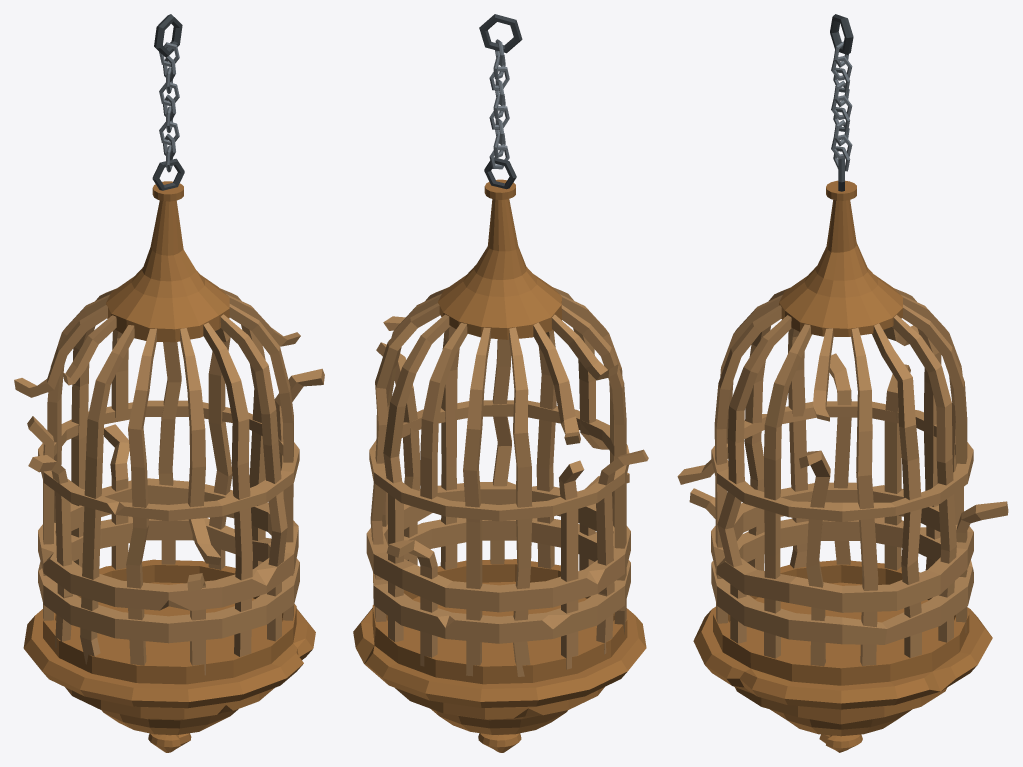
Rendered from WF_LP_HT_Props_BirdBoxBroken.fbx.
3 renders of one model, left to right at view 1: azimuth 30°, elevation 25°; view 2: azimuth 150°, elevation 25°; view 3: azimuth 270°, elevation 25°, orthographic.
Parts seen in each view (by area): view 1: WF_LP_HT_Props_BirdBoxBroken; view 2: WF_LP_HT_Props_BirdBoxBroken; view 3: WF_LP_HT_Props_BirdBoxBroken.
Part boxes in pixels (left/top/right/bottom): WF_LP_HT_Props_BirdBoxBroken: left=14, top=14, right=324, bottom=752; WF_LP_HT_Props_BirdBoxBroken: left=353, top=14, right=648, bottom=752; WF_LP_HT_Props_BirdBoxBroken: left=677, top=14, right=1008, bottom=752.
Size of the model in its own units: 0.5237 by 1.3 by 0.5286.
